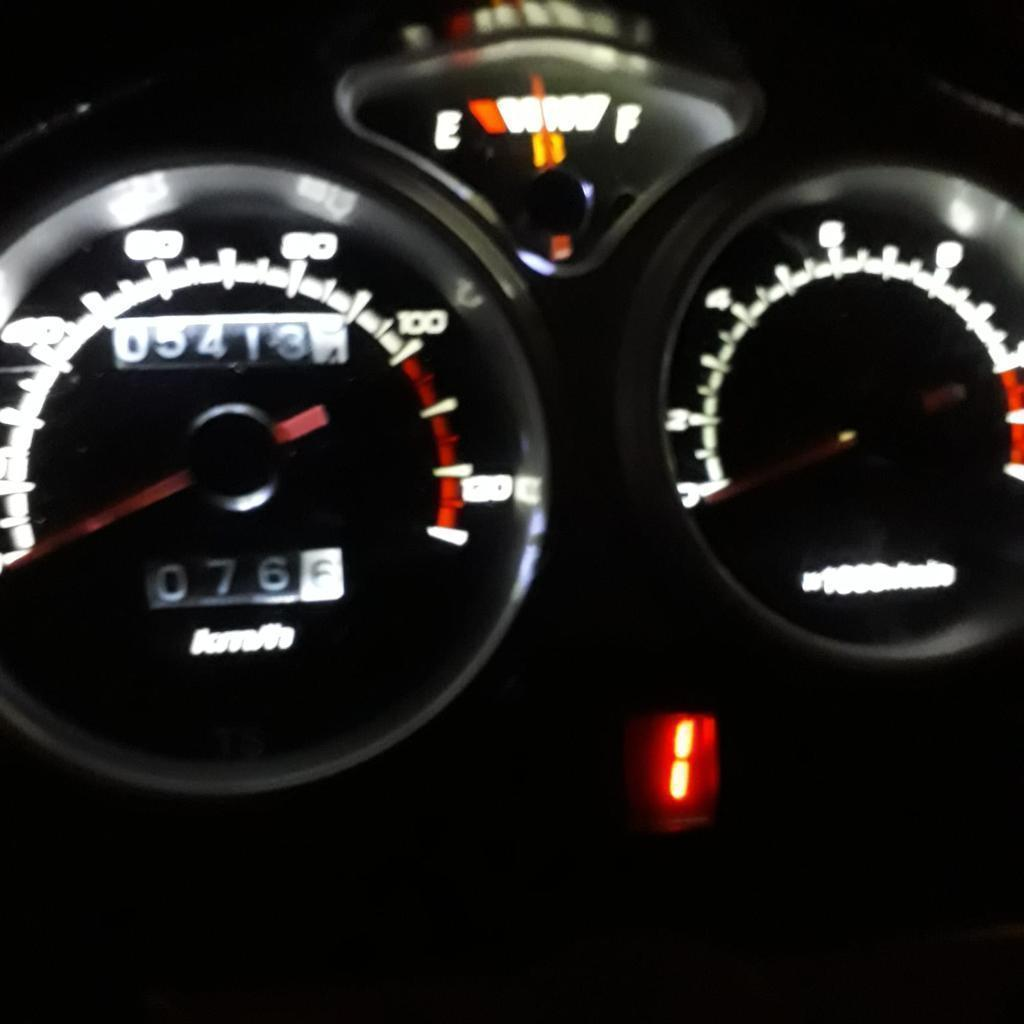0: (113, 319, 149, 363)
1: (244, 324, 261, 362)
3: (275, 322, 306, 362)
4: (195, 319, 229, 361), (320, 345, 344, 370)
5: (153, 317, 189, 359)
odometer: (103, 305, 355, 375)
